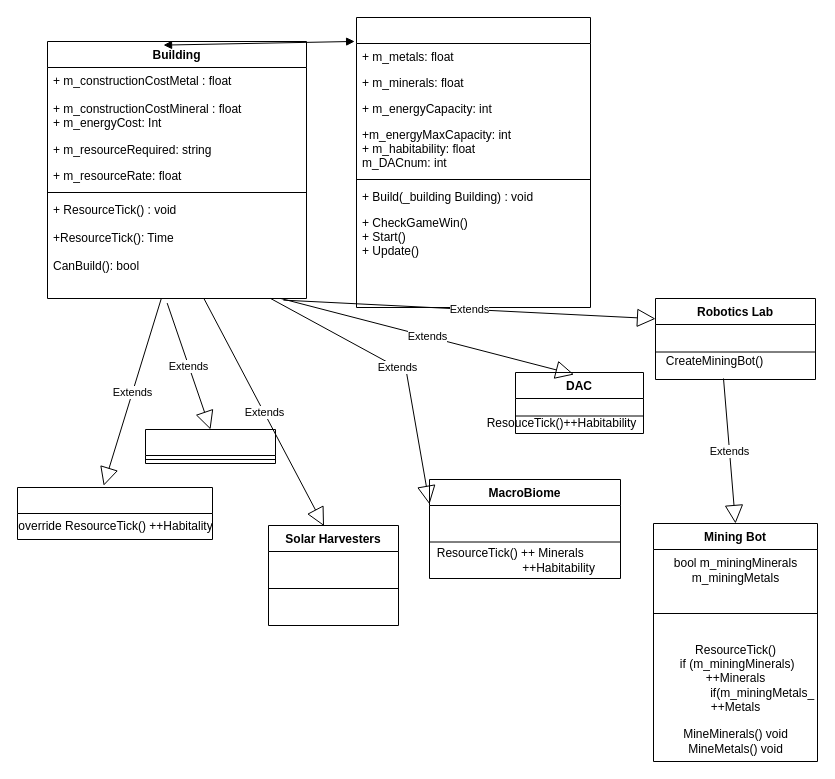
Image size: 835x779. Some labels were removed from this diagram. Here are the shapes that lost their labels. From the top down, the box of each, then its label:
(356, 16, 590, 308): Game Manger
(144, 428, 276, 464): Command Hub
(16, 486, 212, 540): Recreation Centre
